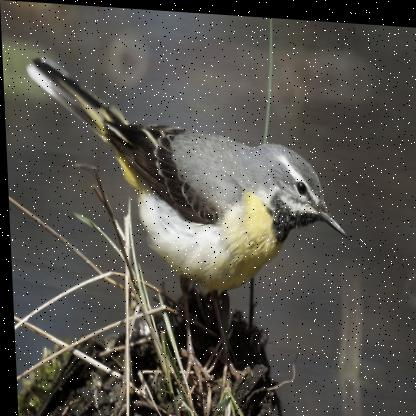Burung: (26, 53, 352, 390)
